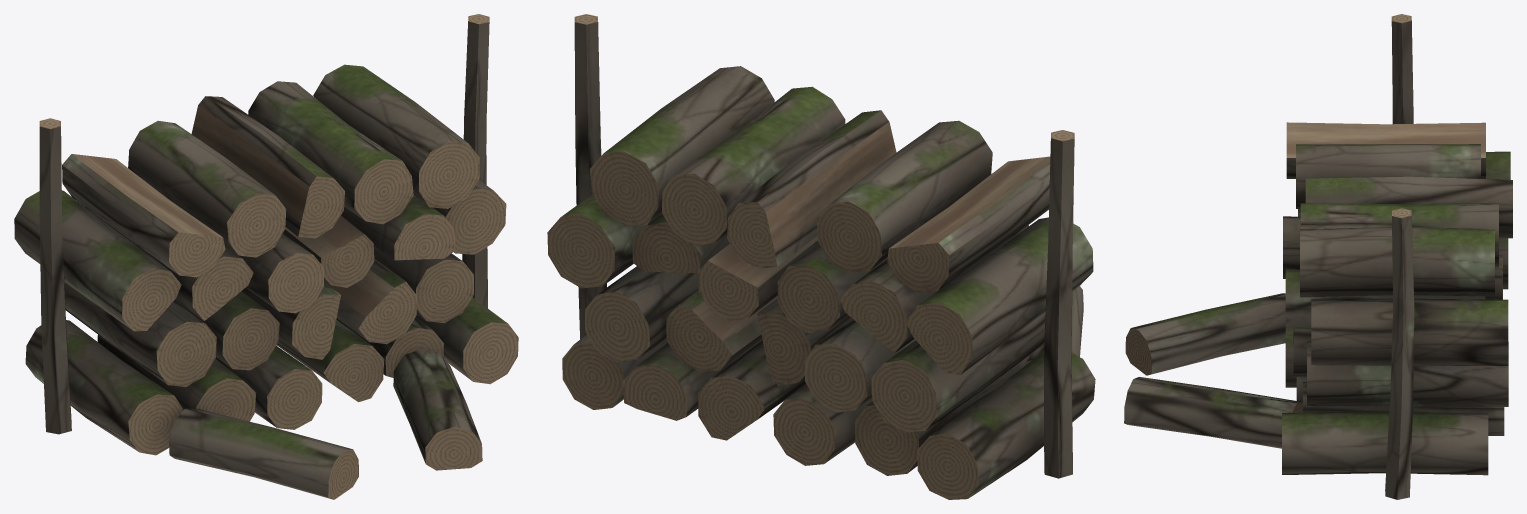
File: fm_firewood_stack.glb
The picture shows the model from 3 angles, left to right: view 1: azimuth 30°, elevation 25°; view 2: azimuth 150°, elevation 25°; view 3: azimuth 270°, elevation 25°; orthographic projection. The views are drawn at different scales.
Parts seen in each view (by area): view 1: fm_firewood_stack; view 2: fm_firewood_stack; view 3: fm_firewood_stack.
Part boxes in pixels (left/top/right/bottom): fm_firewood_stack: left=14, top=14, right=518, bottom=499; fm_firewood_stack: left=547, top=14, right=1095, bottom=499; fm_firewood_stack: left=1124, top=14, right=1512, bottom=499.
Bounding box in the file's own units: 1.11 × 0.7262 × 0.8951.
Materials: 1 (1 with a texture image).
